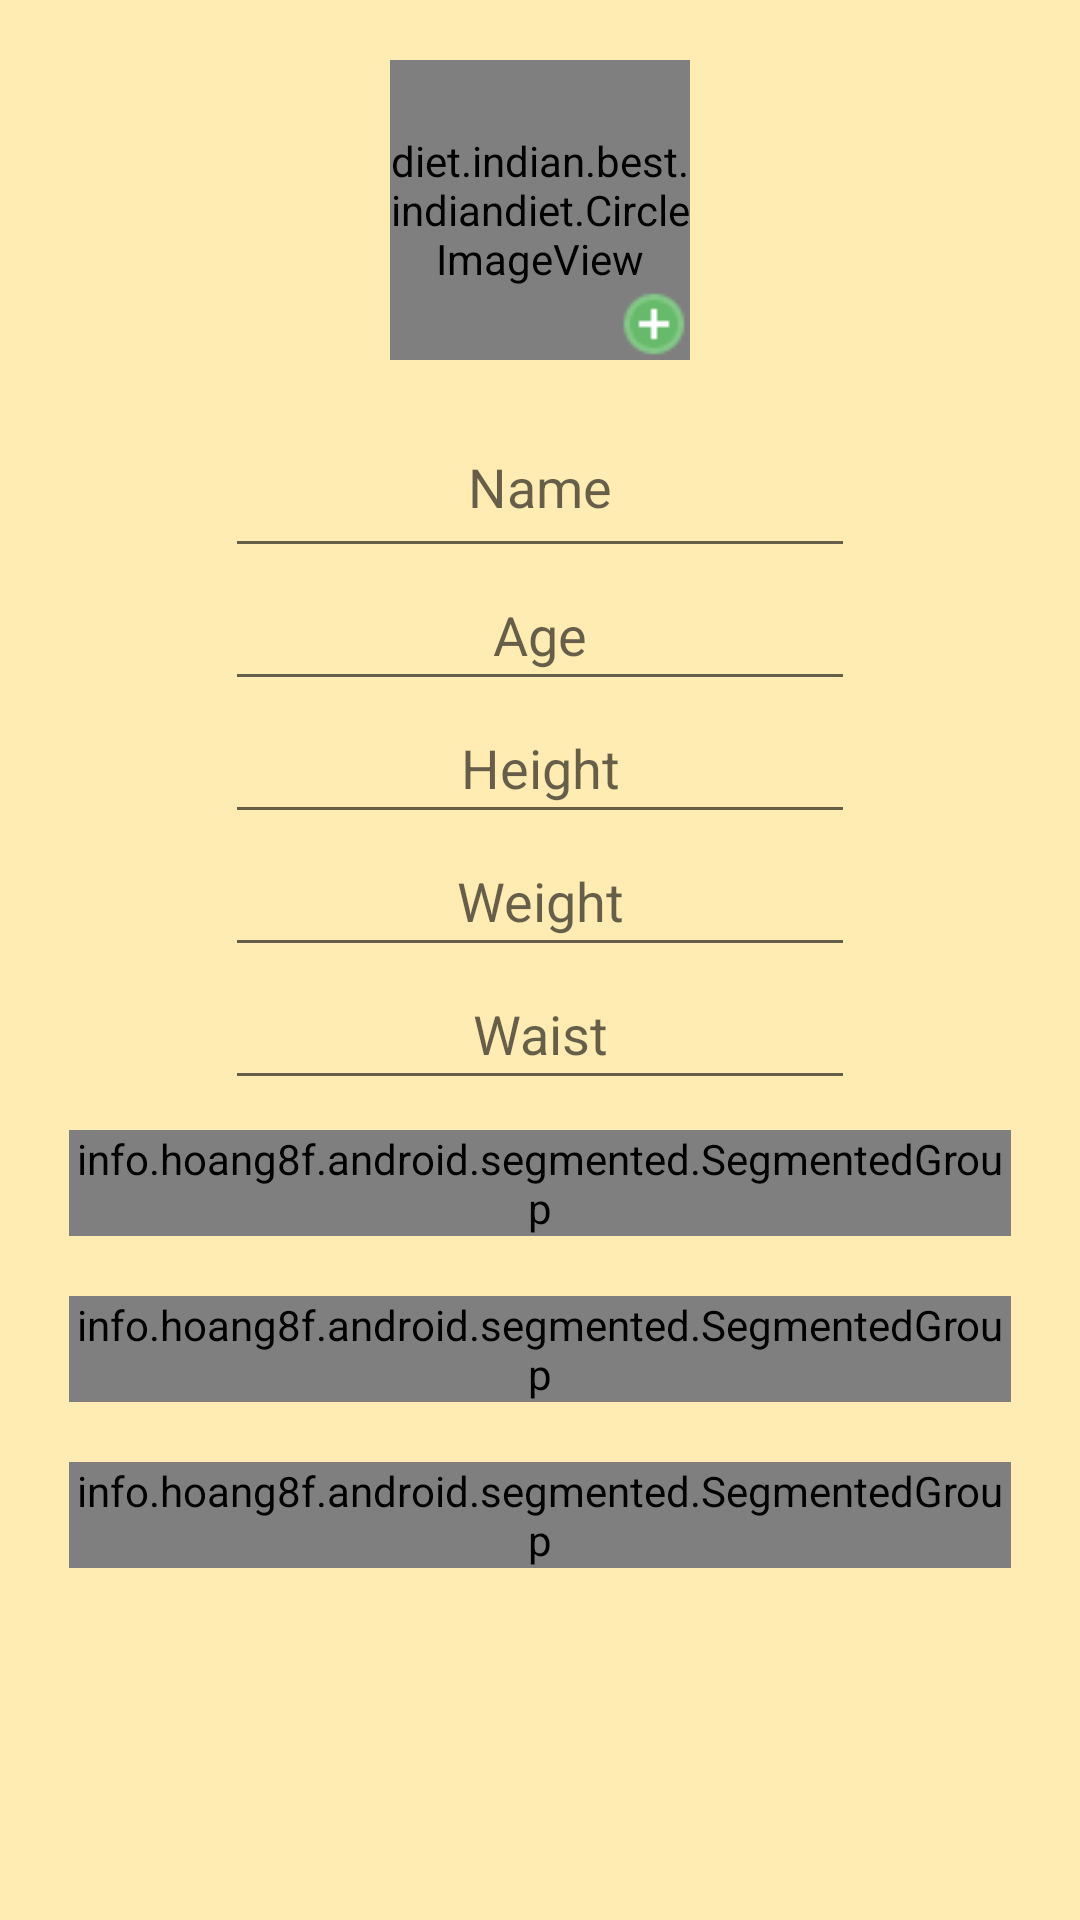

Locate icon controls on the screen. Image size 1080px×1920px, boxes as (x1, y1, x2, y2).
add: (623, 293, 685, 355)
